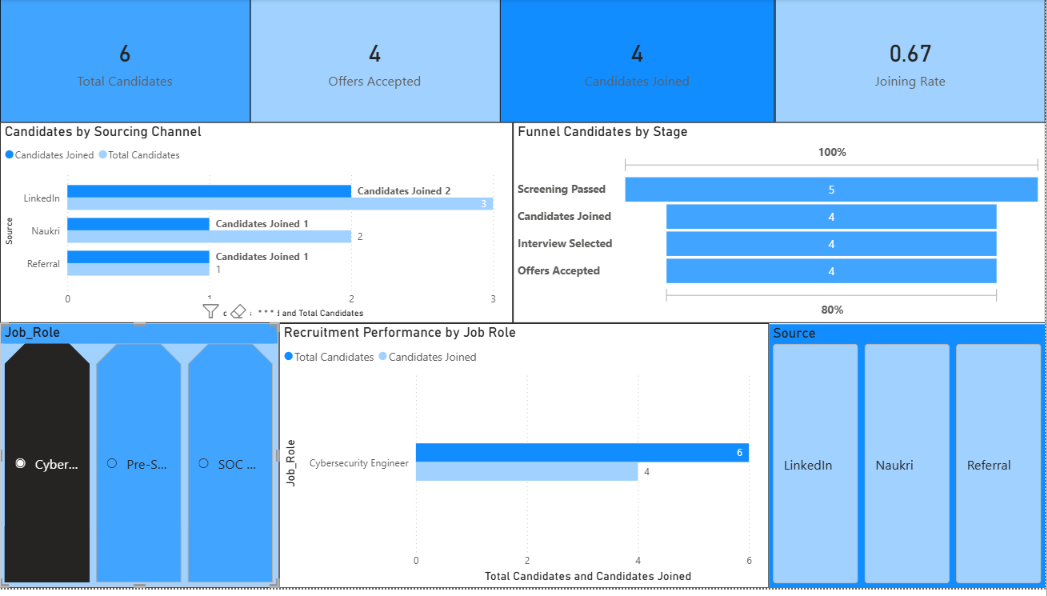

This screenshot's page, from the dashboard's own definition file:
{"tool":"powerbi","page":{"name":"Page 1","canvas":[1280,720],"ordinal":0},"visuals":[{"type":"card","fields":{"Values":["Table1.Candidates Joined"]},"box":[612,0,336.2,150.9],"z":0},{"type":"card","fields":{"Values":["Table1.Offers Accepted"]},"box":[306,0,306,150.9],"z":1},{"type":"card","fields":{"Values":["Table1.Total Candidates"]},"box":[0,0,306,150.9],"z":2},{"type":"card","fields":{"Values":["Table1.Joining Rate"]},"box":[948.2,0,332.1,150.9],"z":3},{"type":"clusteredBarChart","title":"Candidates by Sourcing Channel","fields":{"Category":["Table1.Source"],"Y":["Table1.Candidates Joined","Table1.Total Candidates"]},"box":[0,150.5,627.4,245.6],"z":4},{"type":"funnel","fields":{"Category":["Recruitment_Stages.Stage"],"Y":["Recruitment_Stages.Funnel Candidates"]},"box":[627.1,150.9,653.2,245.6],"z":5},{"type":"clusteredBarChart","title":"Recruitment Performance by Job Role","fields":{"Category":["Table1.Job_Role"],"Y":["Table1.Total Candidates","Table1.Candidates Joined"]},"box":[340.7,396,599,323.6],"z":6},{"type":"advancedSlicerVisual","fields":{"Values":["Table1.Job_Role"]},"box":[0,396,340.7,323.6],"z":7},{"type":"advancedSlicerVisual","fields":{"Values":["Table1.Source"]},"box":[940,397,340,323],"z":8}]}

Visuals, with their boxes in screenshot pixels (x1, y1, x2, y2), scaled from the page's 1280x720 canvas onto the 1047x596 screenshot:
card - Table1.Candidates Joined: BBox(501, 0, 776, 125)
card - Table1.Offers Accepted: BBox(250, 0, 501, 125)
card - Table1.Total Candidates: BBox(0, 0, 250, 125)
card - Table1.Joining Rate: BBox(776, 0, 1046, 125)
"Candidates by Sourcing Channel" clusteredBarChart: BBox(0, 125, 513, 328)
funnel - Recruitment_Stages.Stage x Recruitment_Stages.Funnel Candidates: BBox(513, 125, 1046, 328)
"Recruitment Performance by Job Role" clusteredBarChart: BBox(279, 328, 769, 595)
advancedSlicerVisual - Table1.Job_Role: BBox(0, 328, 279, 595)
advancedSlicerVisual - Table1.Source: BBox(769, 329, 1046, 595)
